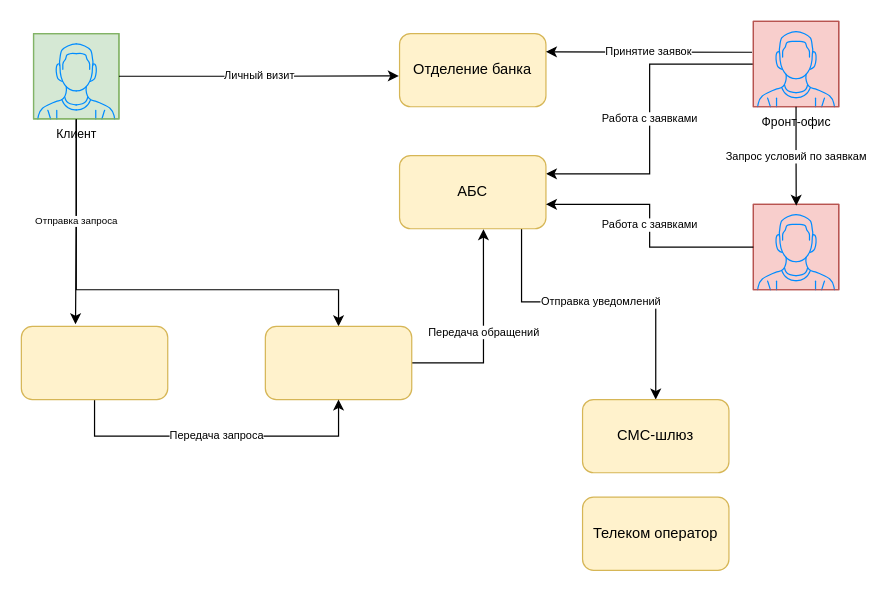
Some shapes in this 888 by 592 pixel diagram are drawn without their labels. The centre of each missing label's shape, as x and y in pixels:
"Бэк-офис" goes at [795,246].
"Кол-центр" goes at [338,362].
"Партнерский кол-центр" goes at [94,362].
